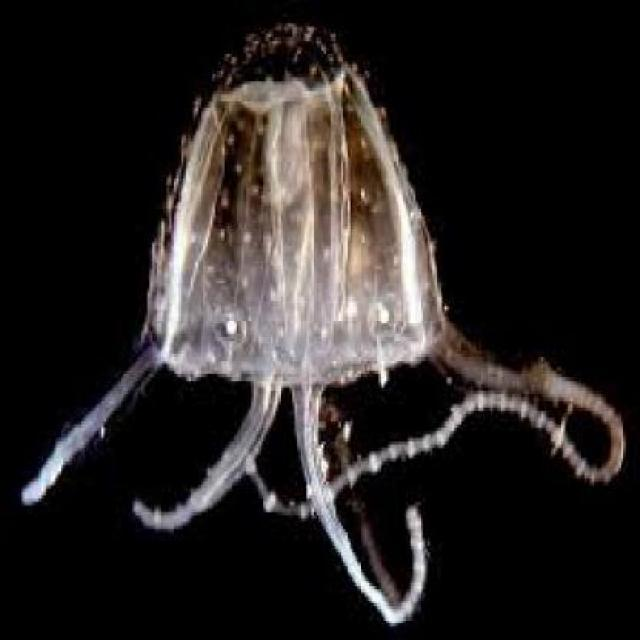Jellyfish: (22, 13, 628, 624)
